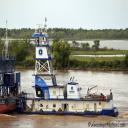tugboat: (17, 25, 121, 119)
